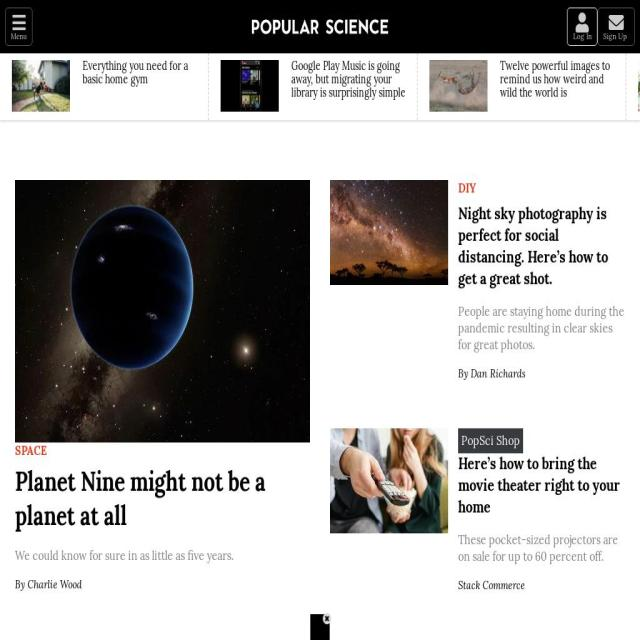button: (15, 180, 310, 442), (330, 180, 448, 395), (330, 428, 448, 607), (208, 53, 418, 67), (0, 53, 209, 67), (418, 53, 626, 67), (252, 18, 388, 35), (597, 7, 635, 46), (567, 7, 598, 46), (5, 7, 33, 46), (15, 442, 47, 466), (458, 180, 477, 203), (626, 53, 640, 67)
image: (15, 180, 310, 442), (330, 428, 448, 534), (330, 180, 448, 285), (12, 60, 70, 112), (220, 60, 278, 112), (430, 60, 488, 112), (252, 18, 388, 35), (638, 60, 640, 112)
link: (15, 469, 266, 530), (458, 206, 608, 287), (458, 456, 620, 516), (458, 305, 624, 352), (70, 53, 208, 107), (487, 53, 625, 107), (279, 53, 416, 107), (458, 534, 618, 564), (15, 549, 234, 563), (470, 368, 526, 380), (27, 579, 82, 591)
text: (458, 428, 523, 454), (457, 580, 525, 592), (603, 32, 629, 41), (572, 32, 592, 41), (11, 32, 27, 41), (15, 579, 27, 591), (458, 368, 470, 380)
